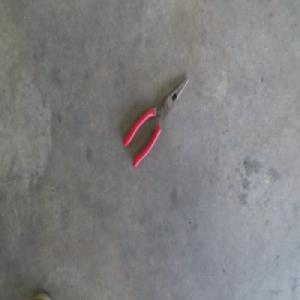Pliers: (122, 78, 189, 171)
